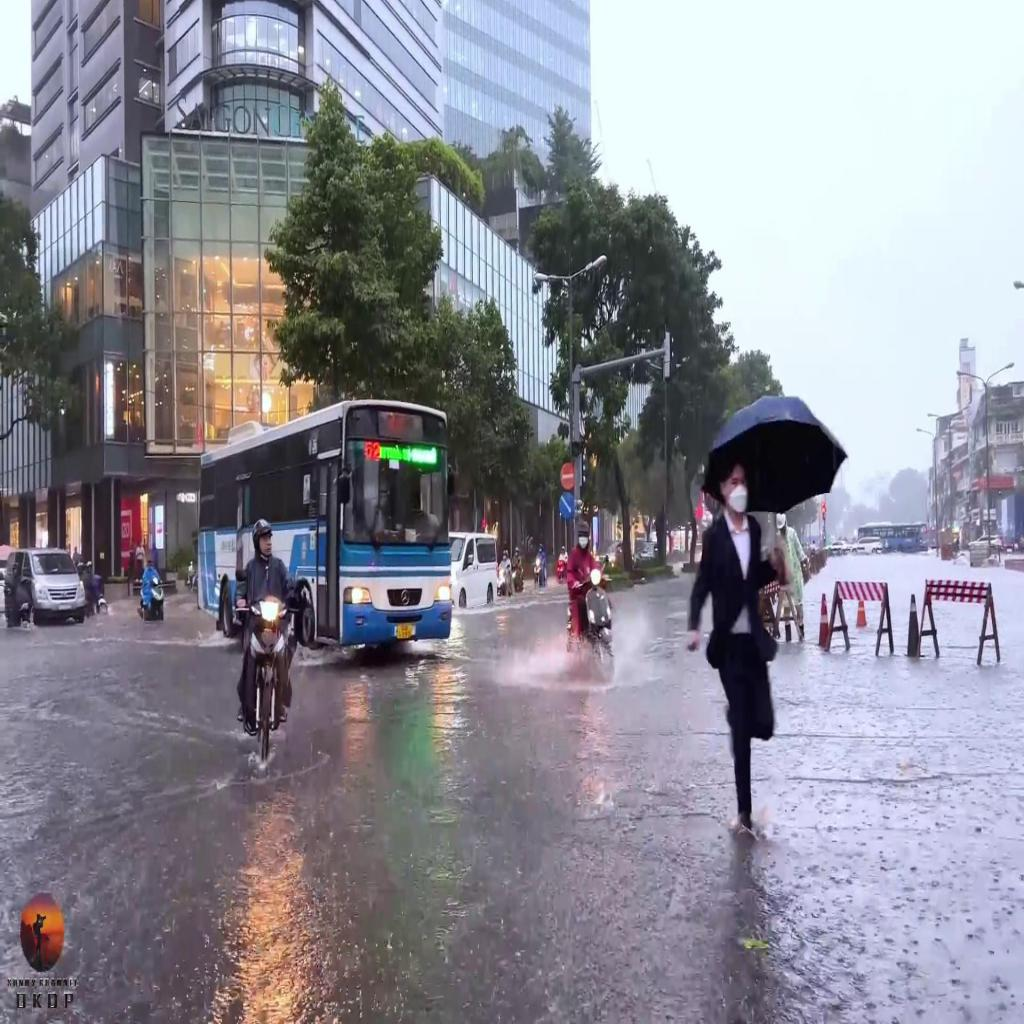cam_xe_di_nguoc_chieu: (558, 463, 574, 489)
huong_phai_di_vuot_chuong_ngai_vat_phai: (558, 492, 574, 521)
